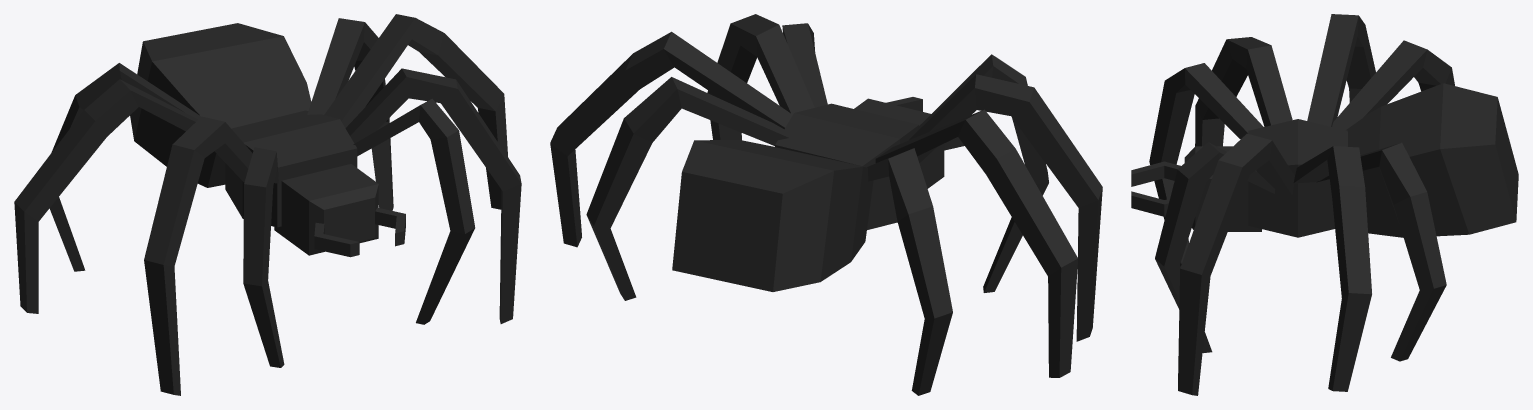
File: HWN20_Spider_03.glb
3 views of the same model, side by side, from view 1: azimuth 30°, elevation 25°; view 2: azimuth 150°, elevation 25°; view 3: azimuth 270°, elevation 25° (orthographic). The views are drawn at different scales.
Visible parts, largest first — view 1: HWN20_Spider_03; view 2: HWN20_Spider_03; view 3: HWN20_Spider_03.
Boxes of the visible parts, bbox=[...] form: HWN20_Spider_03: bbox=[14, 14, 521, 395]; HWN20_Spider_03: bbox=[550, 14, 1102, 395]; HWN20_Spider_03: bbox=[1131, 14, 1518, 395].
Bounding box in the file's own units: 0.0746 × 0.0378 × 0.0544.
1 material, 1 textured.
